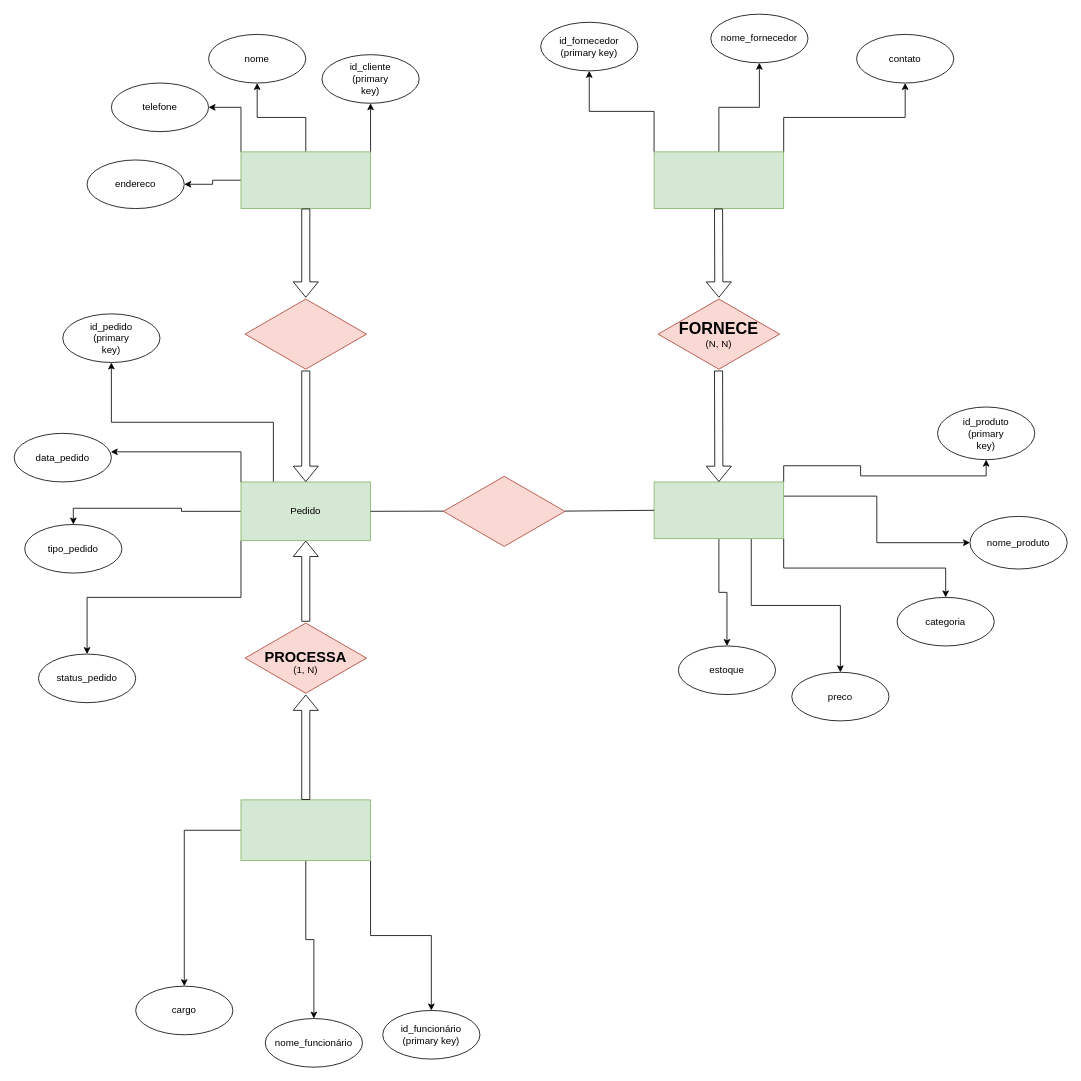
The diagram is 1081 pixels wide and 1081 high, and some of its shapes have lost their labels. Here are the shapes that lost their labels. From the top down, the centre of each, then its label:
At point (305, 180): "Cliente".
At point (718, 180): "Fornecedor".
At point (305, 334): "FAZ (1,N)".
At point (504, 511): "CONTÉM (N,N)".
At point (718, 510): "Produto".
At point (305, 830): "Funcionário".
